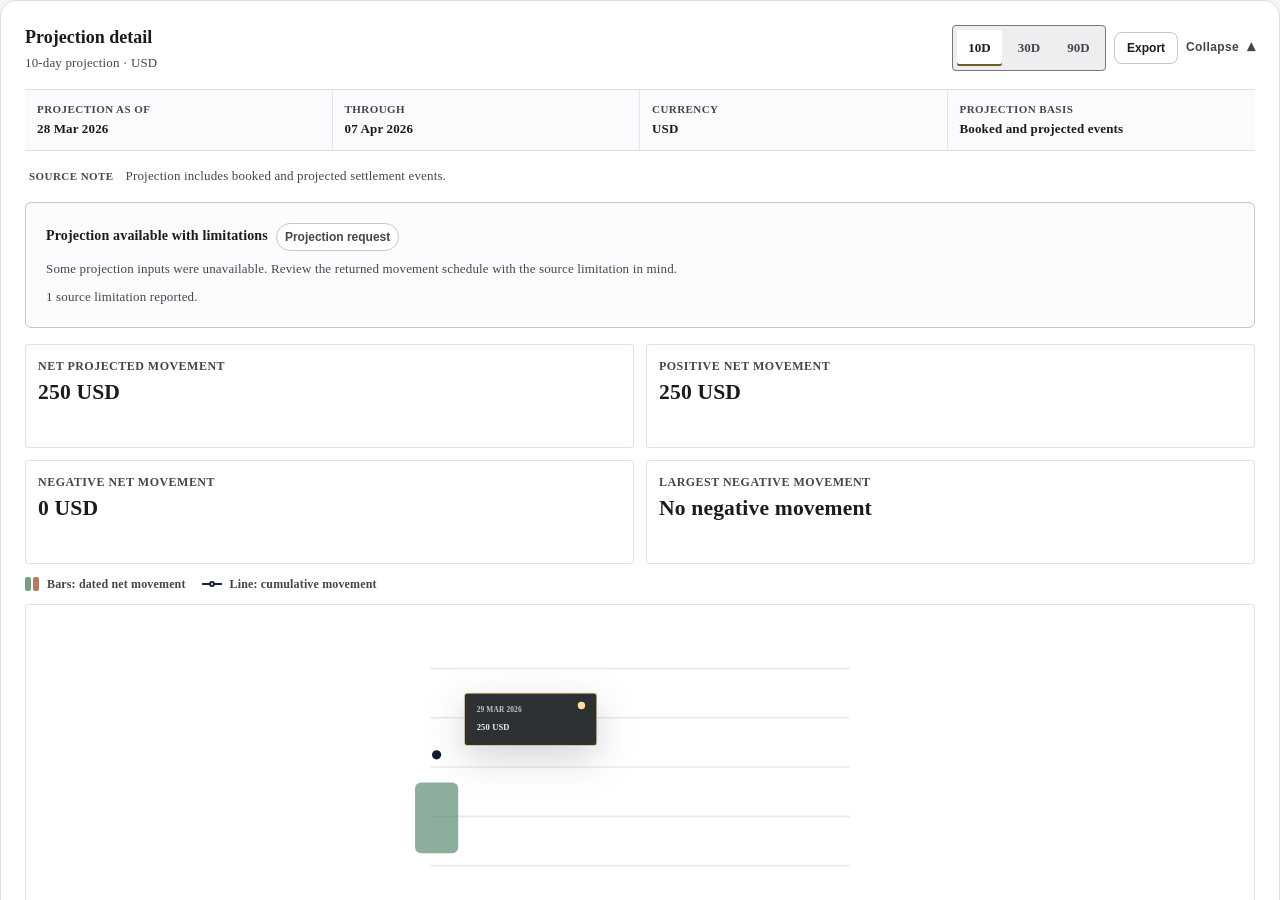
Test: PortfolioProjectedCashflowModule › preserves degraded Gateway evidence with a returned projection
Check: the heading "Projection available with limitations" is shown, box x1=46 y1=226 x2=268 y2=248
Hover over the button with aria-label "Support reference" at (338, 237), box x1=276 y1=223 x2=399 y2=251
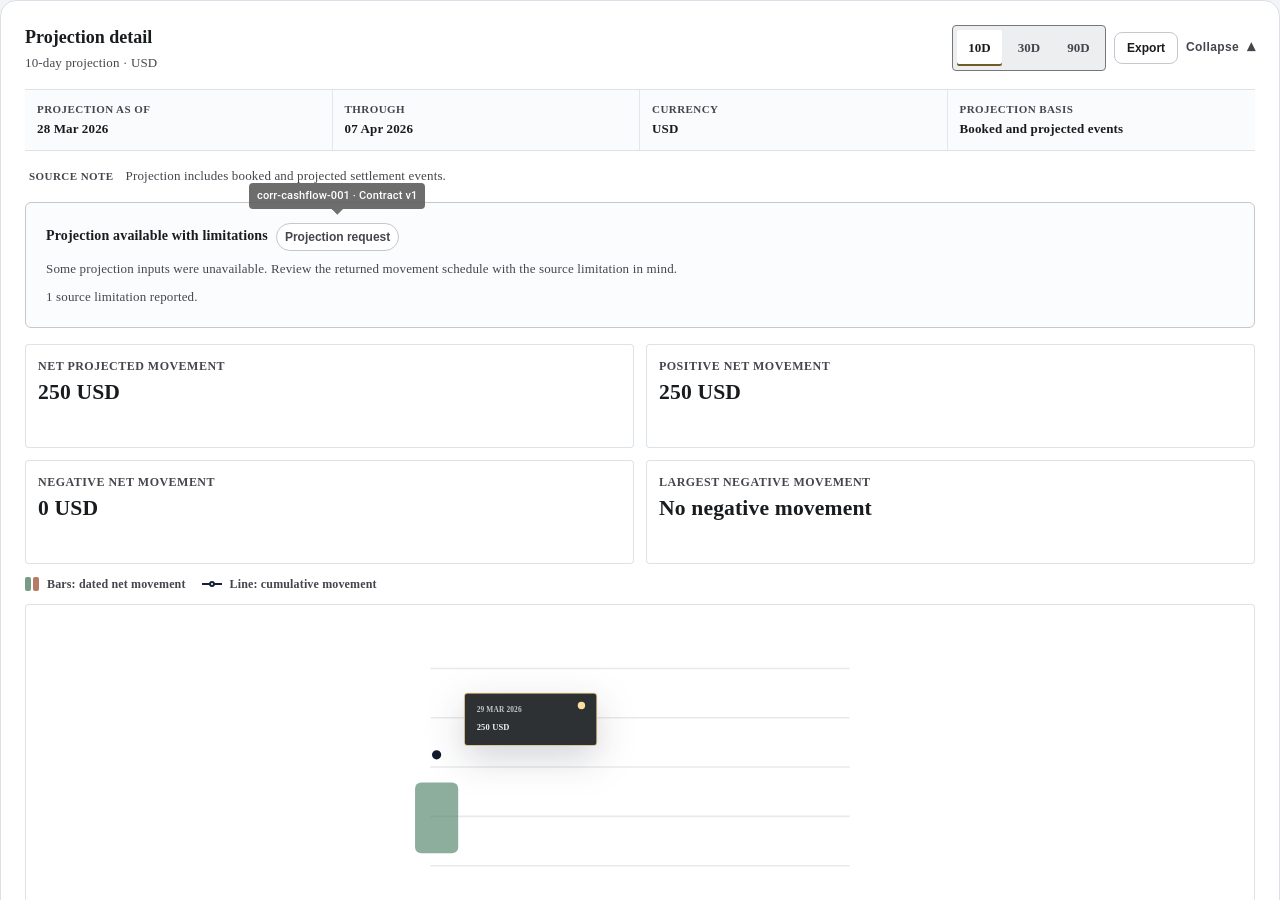
Check: the element named "Projected cash movement summary" is shown, box x1=25 y1=344 x2=1255 y2=564
Check: the text "corr-cashflow-001 · Contract v1" is shown, box x1=249 y1=183 x2=425 y2=209
